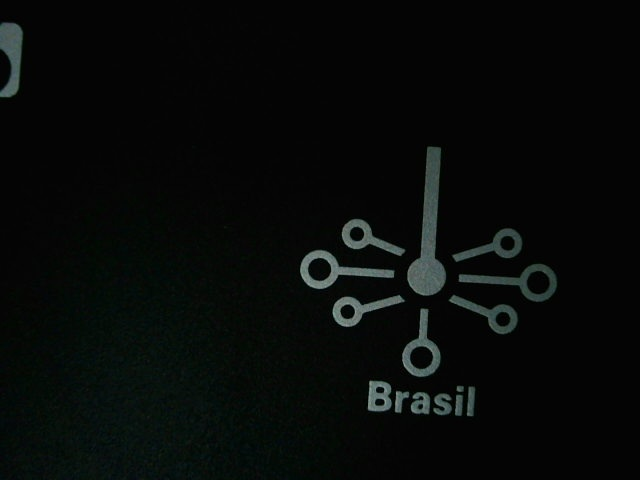BG_Brasil: (278, 127, 570, 439)
